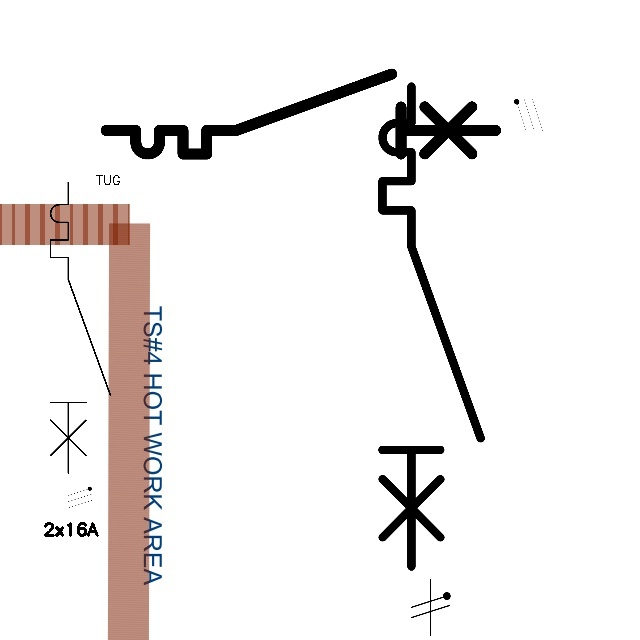interruptor_termomagnetico: (370, 74, 493, 578), (96, 64, 505, 164), (43, 175, 118, 481)
